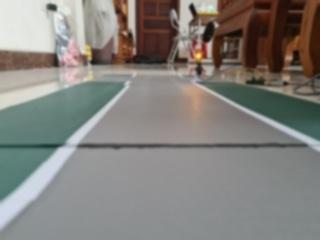yellow: (190, 45, 209, 68)
